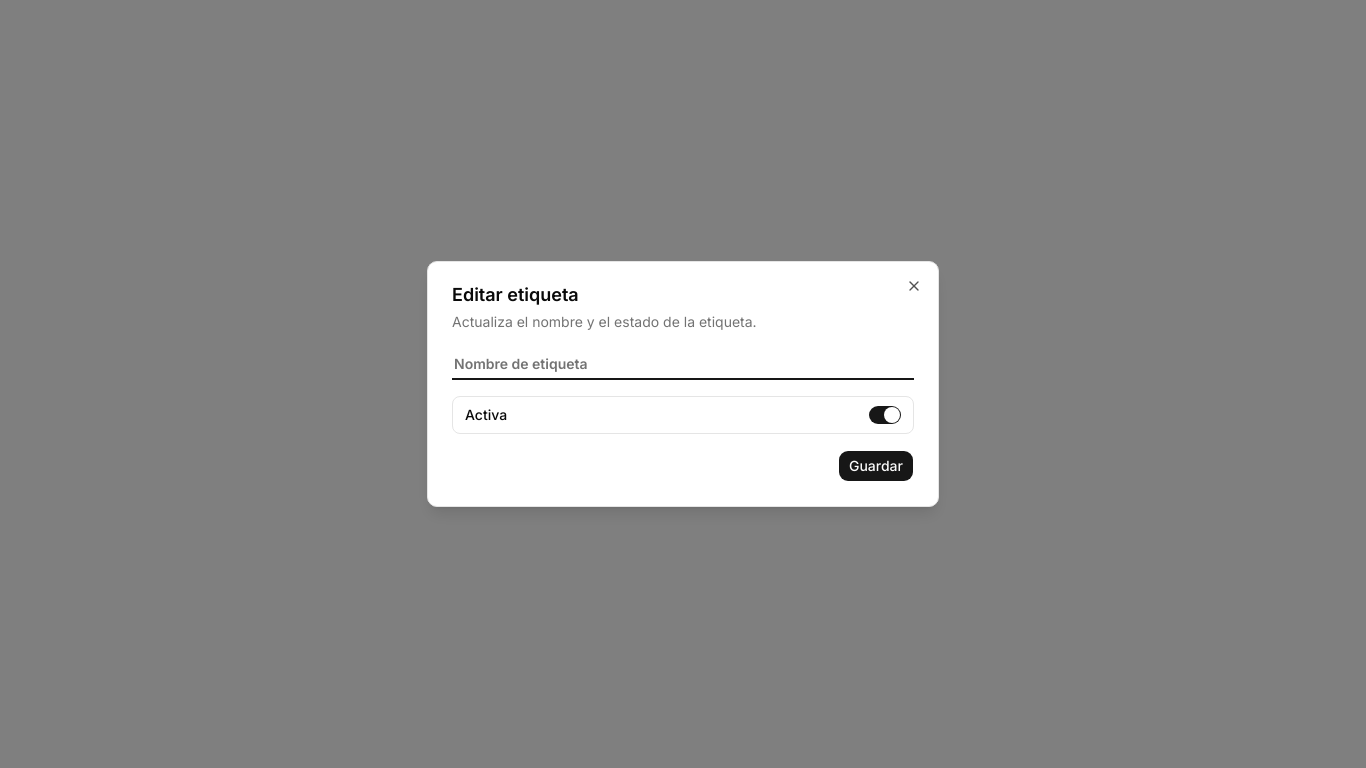
it: EditLabelForm › shows error when no label selected
In the field with placeholder "Nombre de etiqueta": (683, 364) [452,348,914,380], type "Algo"
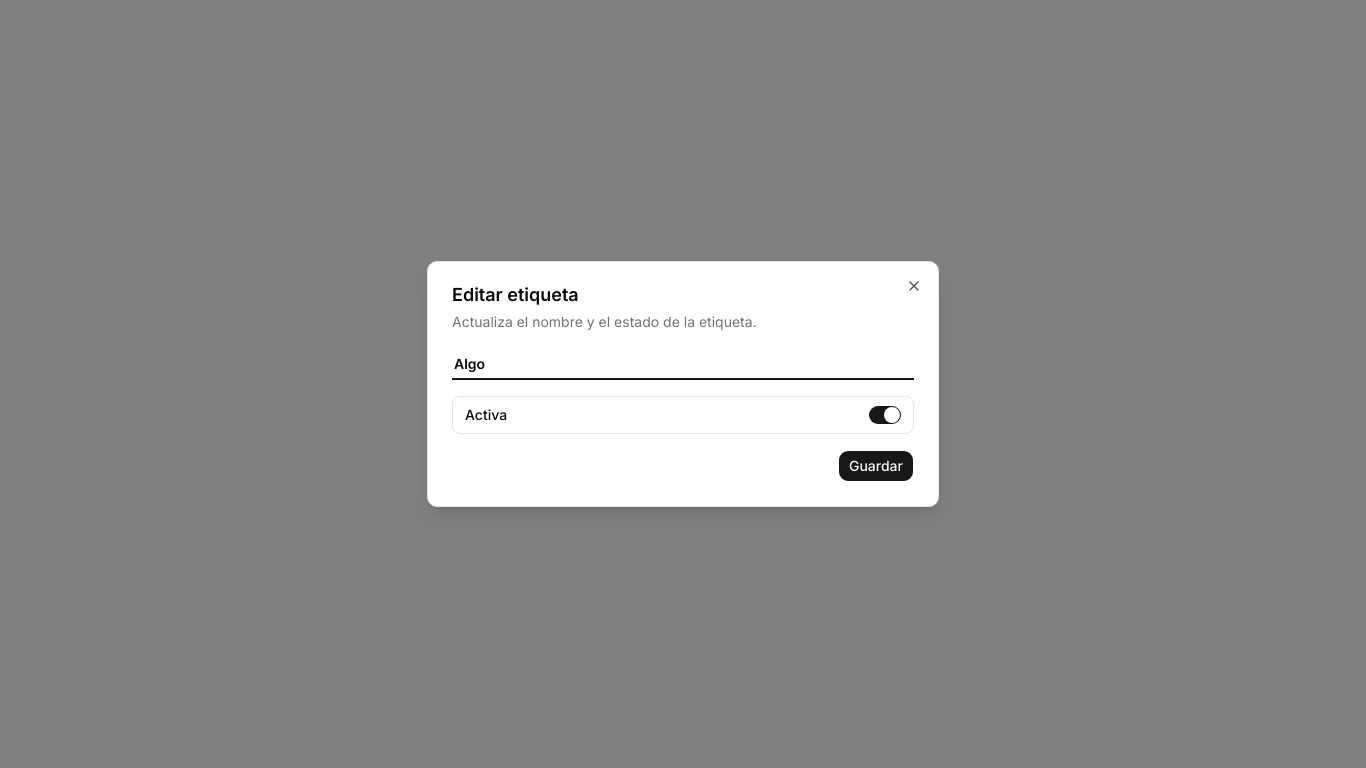
Click the button "Guardar": (876, 466) [838,450,914,482]
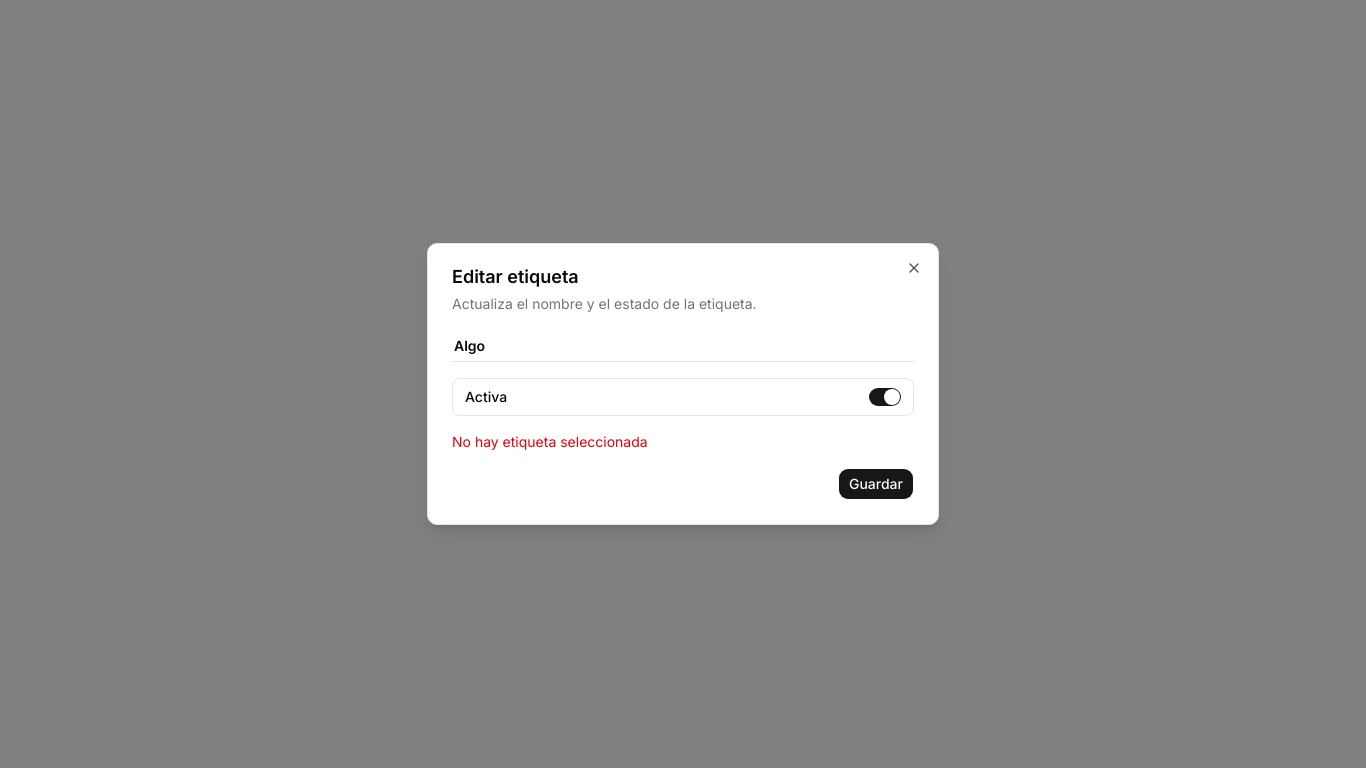
Now the text "No hay etiqueta seleccionada" is shown, box [452,433,648,450]
